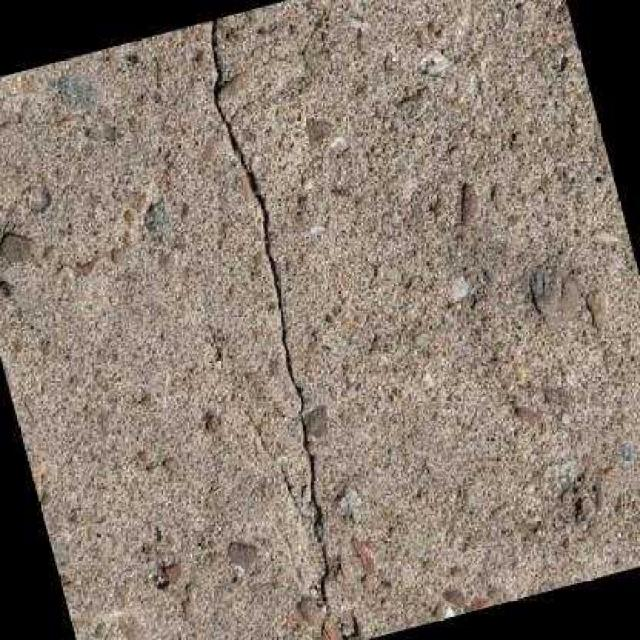D00: (204, 18, 363, 640)
